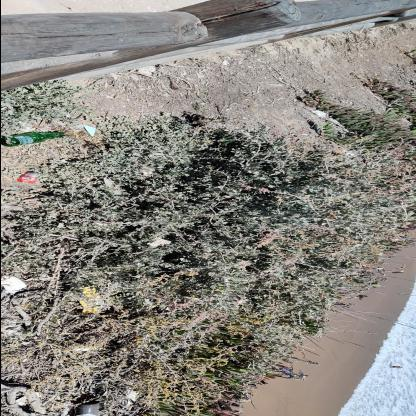cam: (2, 133, 66, 148)
